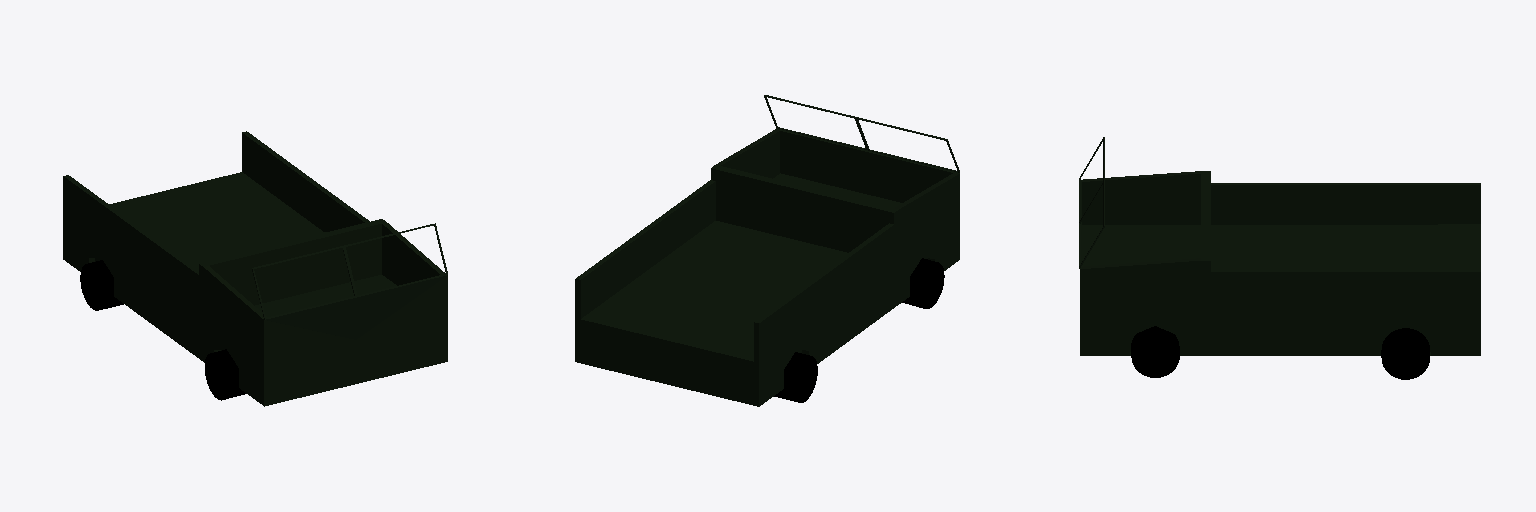
File: truck.obj
3 renders of one model, left to right at view 1: azimuth 30°, elevation 25°; view 2: azimuth 150°, elevation 25°; view 3: azimuth 270°, elevation 25°, orthographic.
Parts seen in each view (by area): view 1: Cube; view 2: Cube; view 3: Cube.
Boxes of the visible parts, <box> form: Cube: <box>63,131,447,406</box>; Cube: <box>575,95,959,406</box>; Cube: <box>1079,137,1480,379</box>.
Bounding box in the file's own units: 9.73 × 6.78 × 16.55.